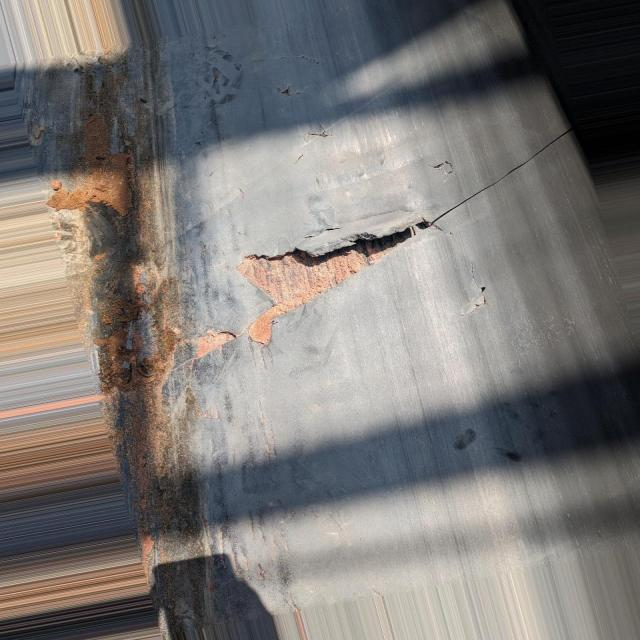Tear: (185, 127, 576, 370), (465, 272, 500, 318), (273, 82, 310, 100), (276, 55, 323, 65), (429, 159, 455, 176), (309, 123, 335, 137)
